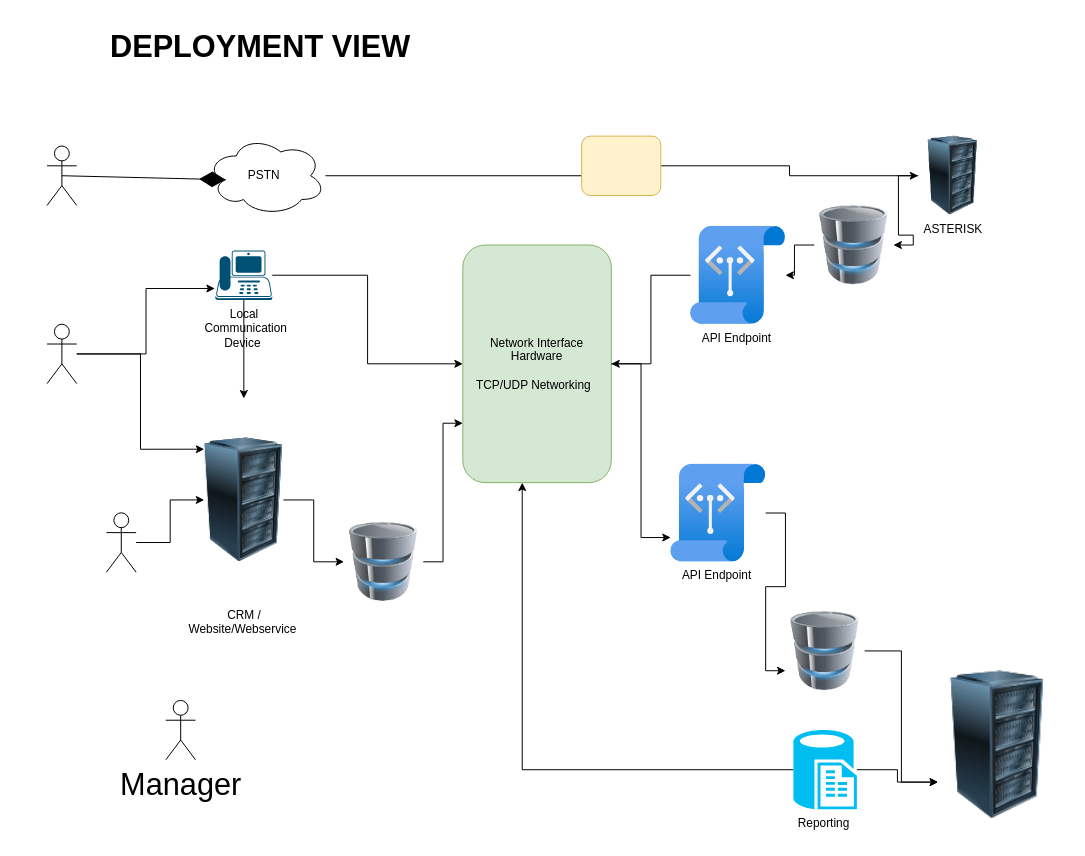
Some shapes in this 1085 by 856 pixel diagram are drawn without their labels. Here are the shapes that lost their labels. From the top down, the centre of each, then its label:
(x=61, y=175): Client
(x=621, y=165): E1( Interface Card)
(x=61, y=353): Agent
(x=120, y=542): Supervisor
(x=997, y=744): CASE Management /CRM
